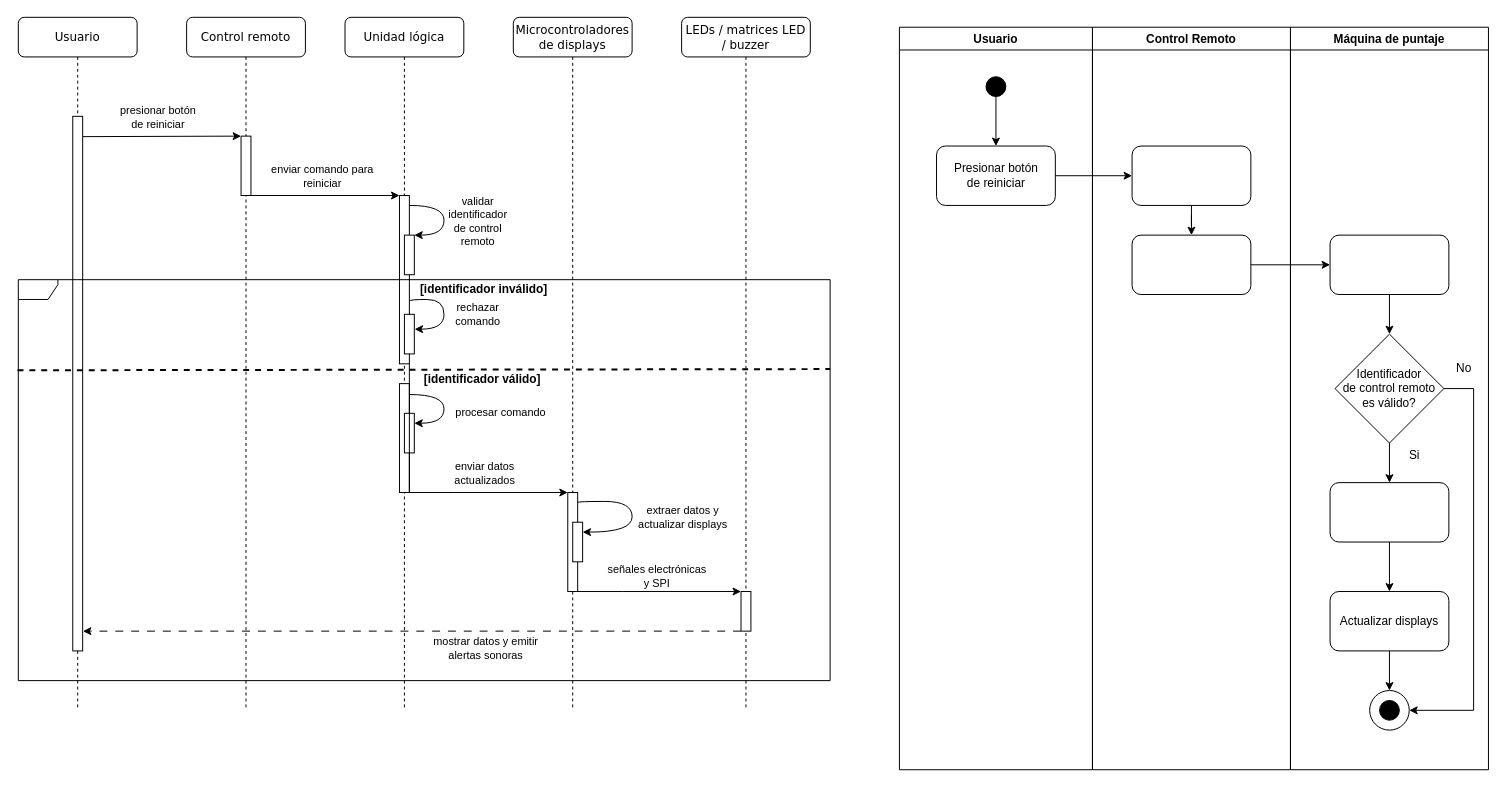
Image size: 1507x787. Some labels were removed from this diagram. The centre of each missing label's shape, as x and y in pixels:
"alt" goes at (x=423, y=480).
"Detectar Boton presionado" goes at (x=1191, y=175).
"Enviar Comando" goes at (x=1191, y=264).
"Recibir Comando" goes at (x=1389, y=264).
"Reiniciar valores" goes at (x=1389, y=512).
